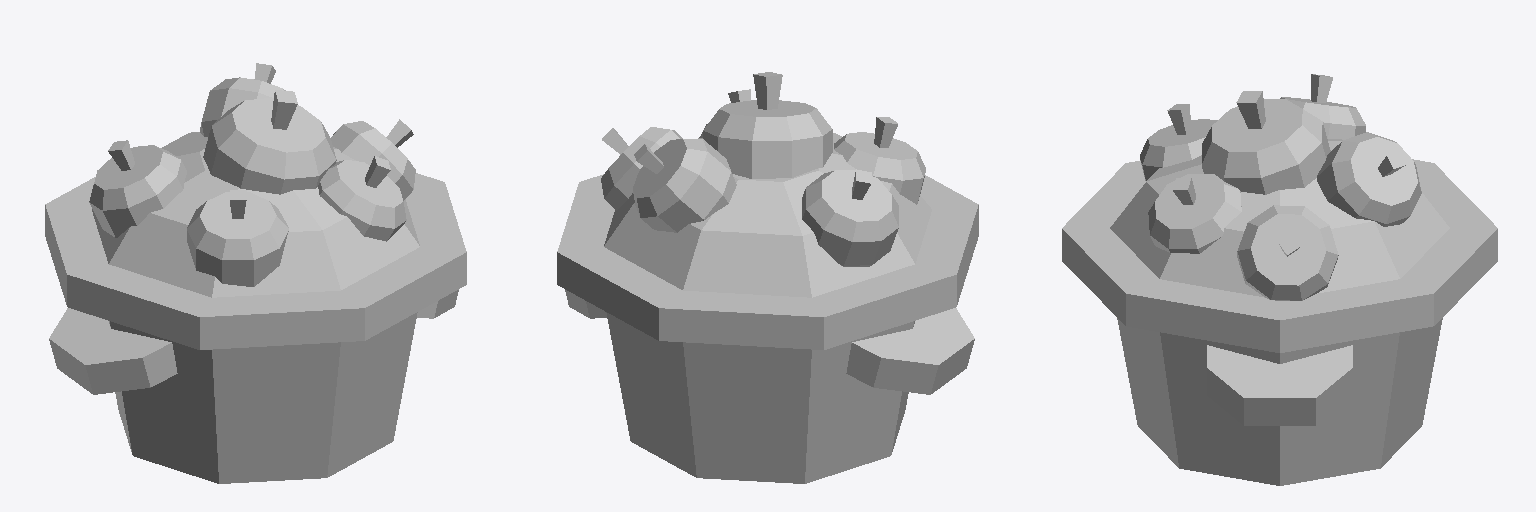
Rendered from display-fruit.obj.
The picture shows the model from 3 angles: view 1: azimuth 30°, elevation 25°; view 2: azimuth 150°, elevation 25°; view 3: azimuth 270°, elevation 25°; orthographic projection.
Visible parts, largest first — view 1: display-fruit; view 2: display-fruit; view 3: display-fruit.
Part boxes in pixels (x1,y1,x2,y2): display-fruit: (45, 63, 466, 483); display-fruit: (557, 72, 978, 483); display-fruit: (1062, 74, 1497, 485).
Size of the model in its own units: 0.6 by 0.516 by 0.6.